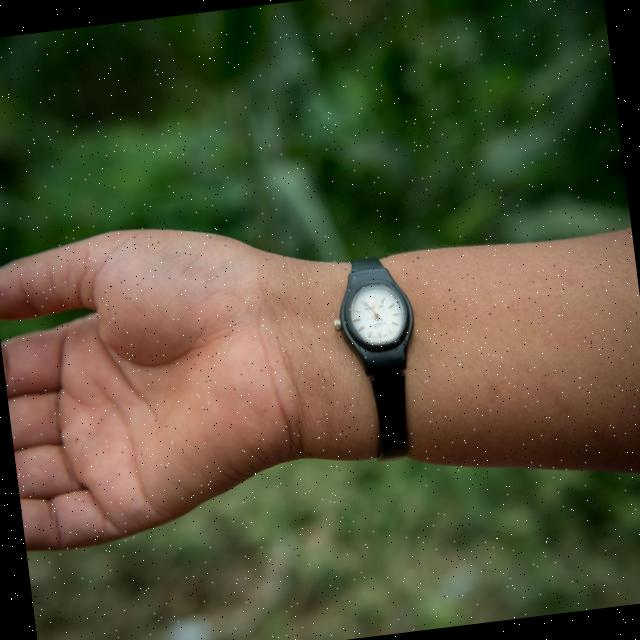Wrist watch: (324, 253, 430, 466)
